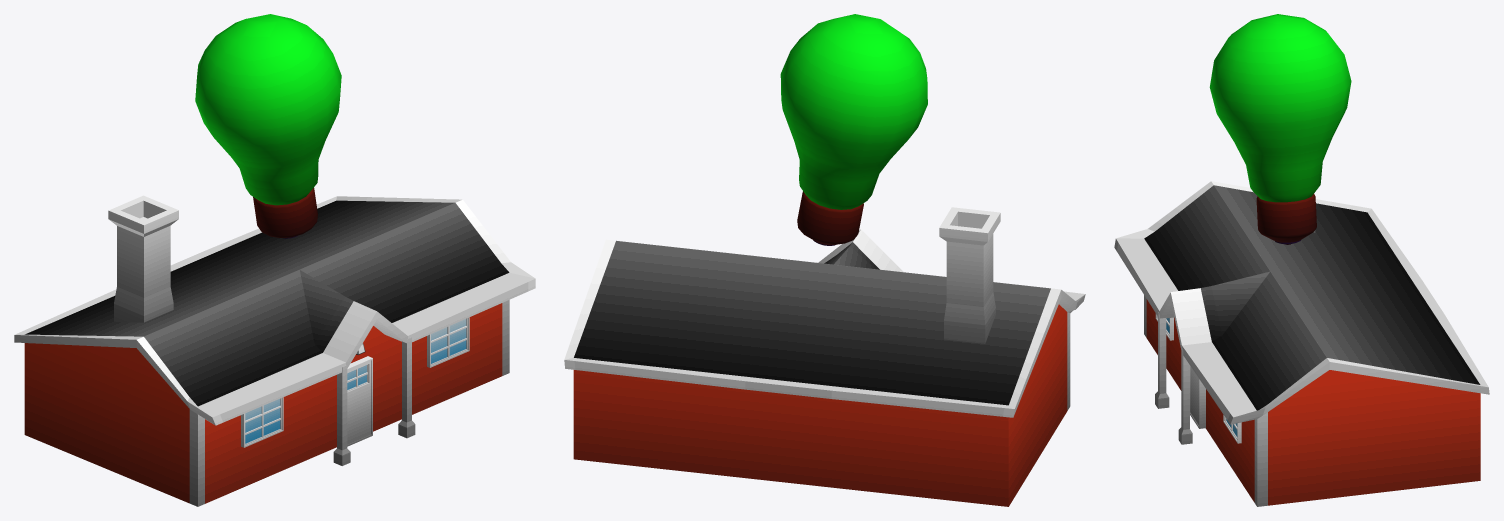
Rendered from rumah.glb.
3 views of the same model, side by side, from view 1: azimuth 30°, elevation 25°; view 2: azimuth 150°, elevation 25°; view 3: azimuth 270°, elevation 25° (orthographic). The views are drawn at different scales.
Parts seen in each view (by area): view 1: Cube.010, #LMP0003_Light_Bulb_Low_Poly; view 2: Cube.010, #LMP0003_Light_Bulb_Low_Poly; view 3: Cube.010, #LMP0003_Light_Bulb_Low_Poly.
Boxes of the visible parts, x1,y1,x2,y2 form: Cube.010: [14, 195, 535, 506]; #LMP0003_Light_Bulb_Low_Poly: [195, 14, 341, 238]; Cube.010: [564, 207, 1085, 506]; #LMP0003_Light_Bulb_Low_Poly: [780, 14, 927, 245]; Cube.010: [1114, 181, 1489, 506]; #LMP0003_Light_Bulb_Low_Poly: [1209, 14, 1351, 244].
Size of the model in its own units: 14.76 by 12.51 by 11.21.
Materials: 1 (1 with a texture image).
